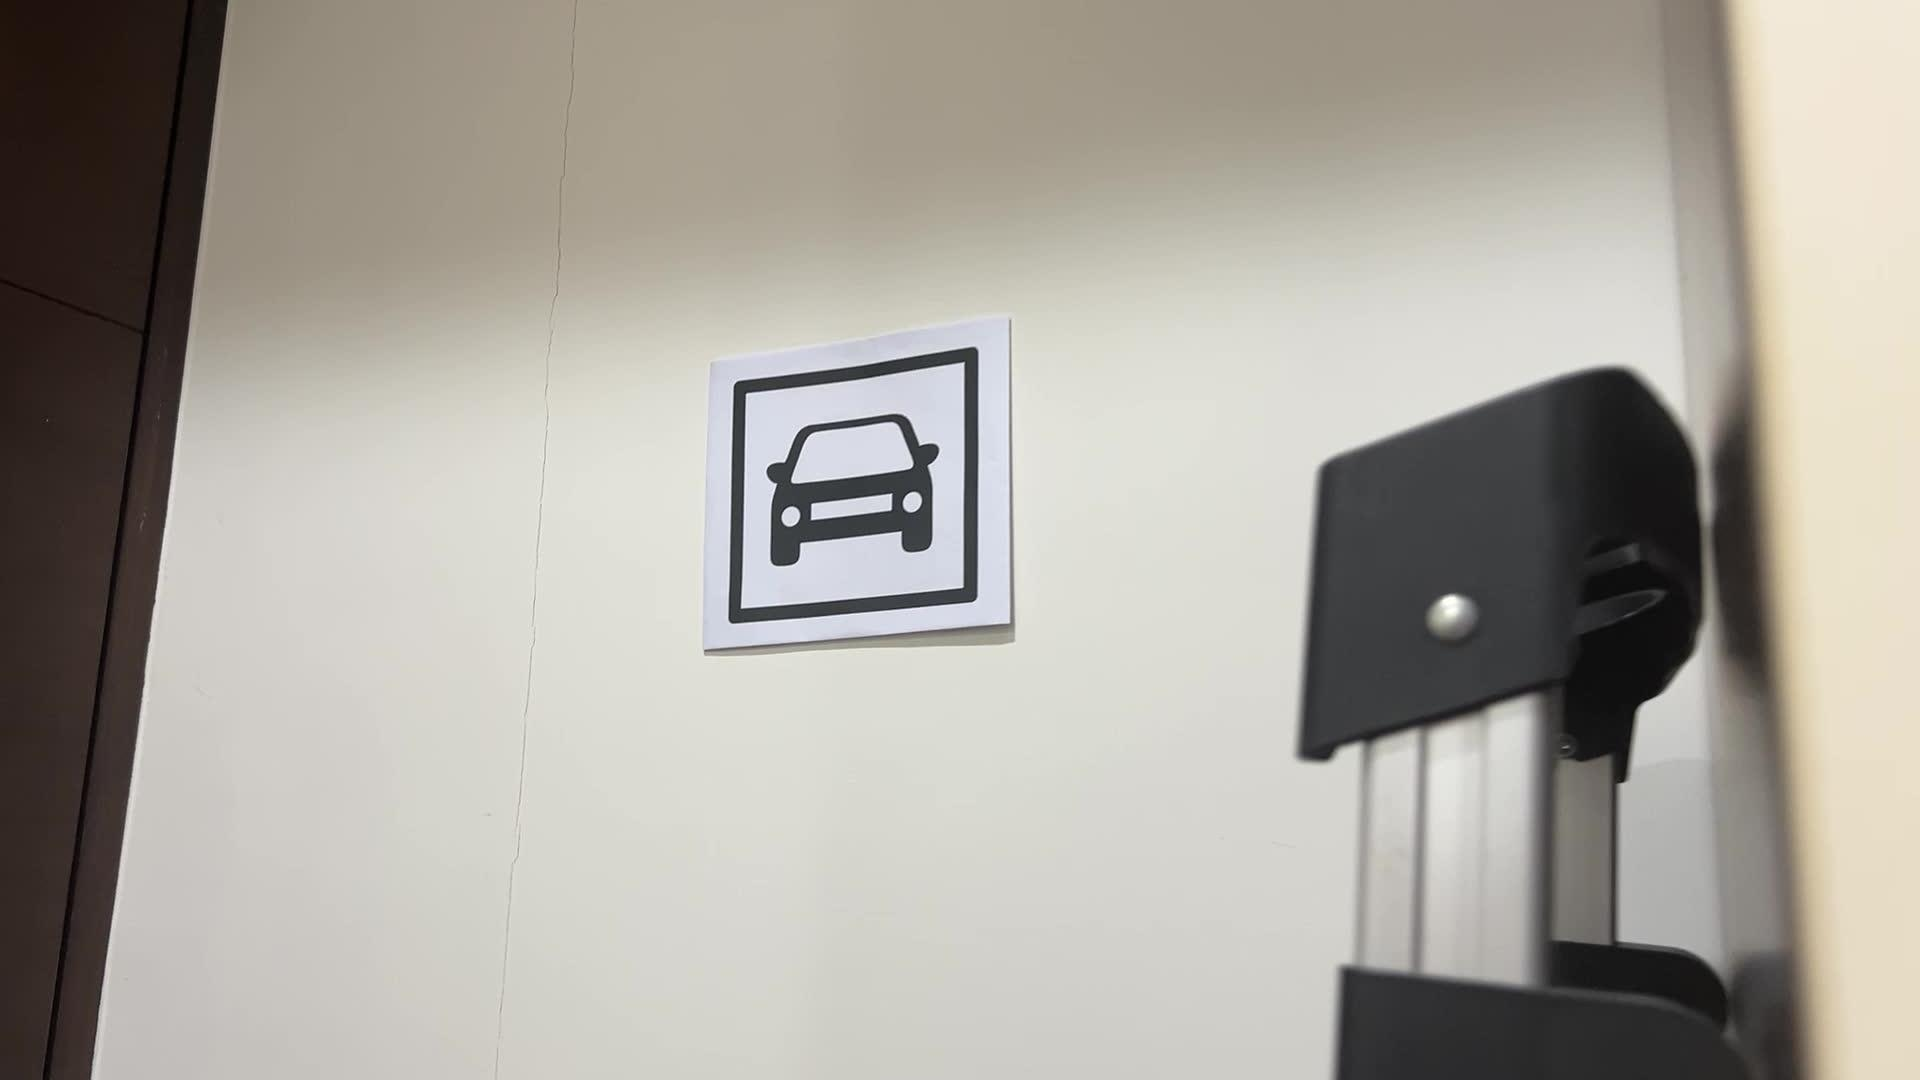car_img: (724, 342, 984, 626)
